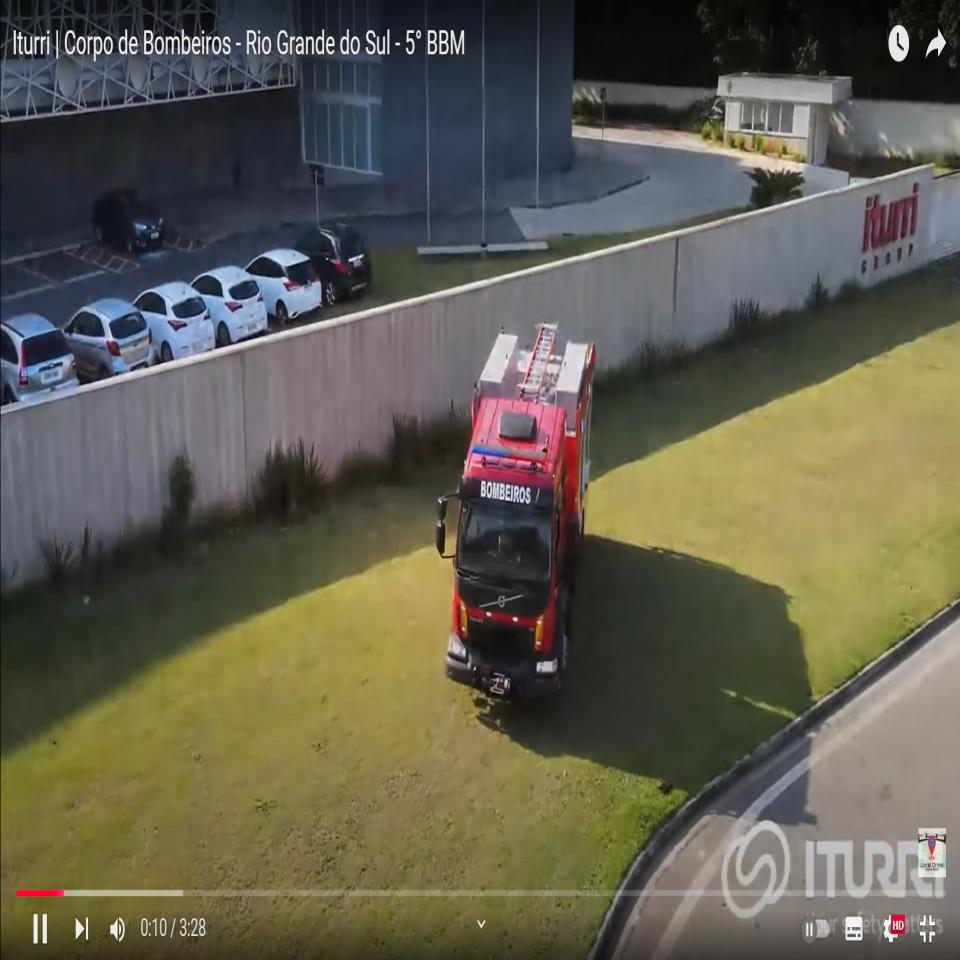viatura: (433, 314, 598, 717)
